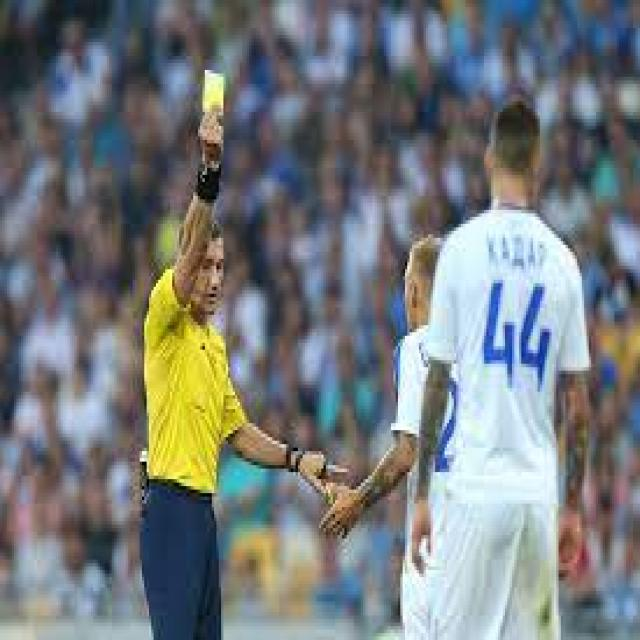yellow-card: (197, 61, 233, 198)
